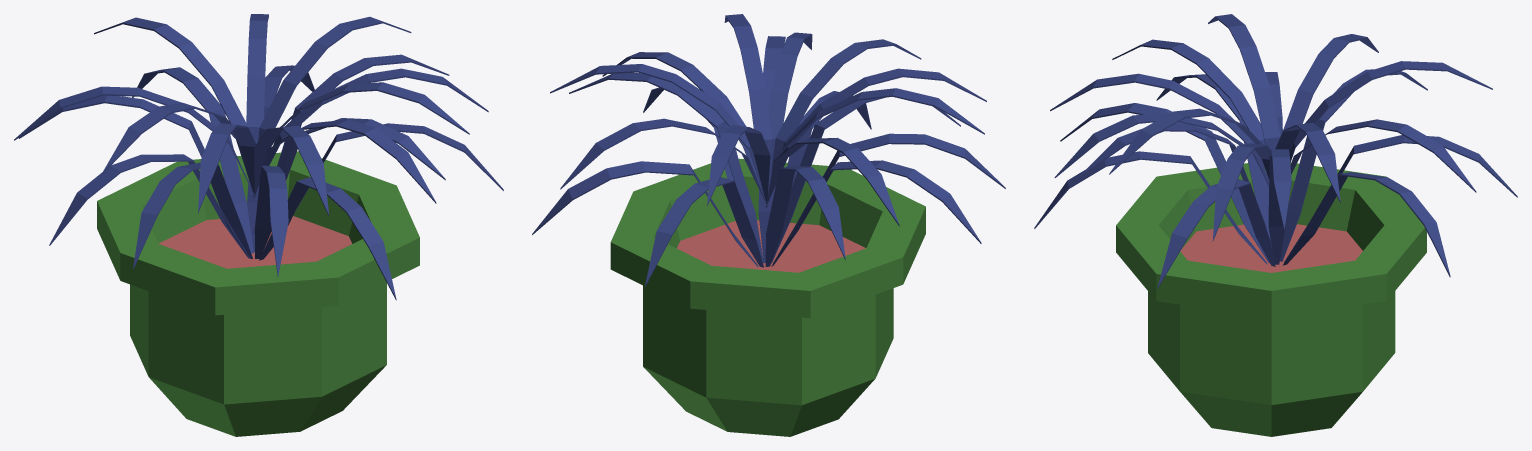
File: Kitchen_Plant2.fbx
3 views of the same model, side by side, from view 1: azimuth 30°, elevation 25°; view 2: azimuth 150°, elevation 25°; view 3: azimuth 270°, elevation 25° (orthographic). The views are drawn at different scales.
Visible parts, largest first — view 1: Kitchen_Plant2; view 2: Kitchen_Plant2; view 3: Kitchen_Plant2.
Part boxes in pixels (x1,y1,x2,y2): Kitchen_Plant2: (14,14,503,436); Kitchen_Plant2: (532,14,1005,436); Kitchen_Plant2: (1034,14,1517,436).
Bounding box in the file's own units: 28.51 × 21.87 × 29.62.
